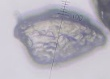microplastic: (11, 7, 108, 66), (94, 1, 109, 32)
